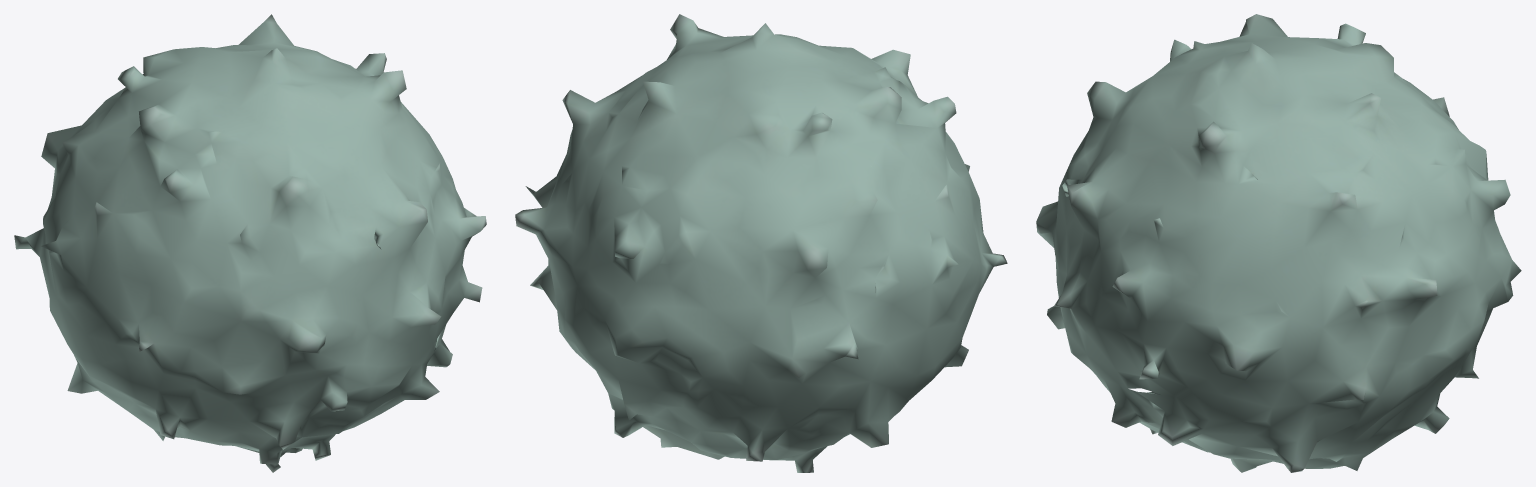
File: t-lymphocyte.glb
3 renders of one model, left to right at view 1: azimuth 30°, elevation 25°; view 2: azimuth 150°, elevation 25°; view 3: azimuth 270°, elevation 25°, orthographic. The views are drawn at different scales.
Parts seen in each view (by area): view 1: t-lymphocyte; view 2: t-lymphocyte; view 3: t-lymphocyte.
Boxes of the visible parts, left/top/right/bottom form: t-lymphocyte: left=14, top=14, right=486, bottom=472; t-lymphocyte: left=515, top=14, right=1007, bottom=472; t-lymphocyte: left=1036, top=14, right=1521, bottom=472.
Size of the model in its own units: 2.49 by 2.34 by 2.44.
Materials: 1 (1 with a texture image).
